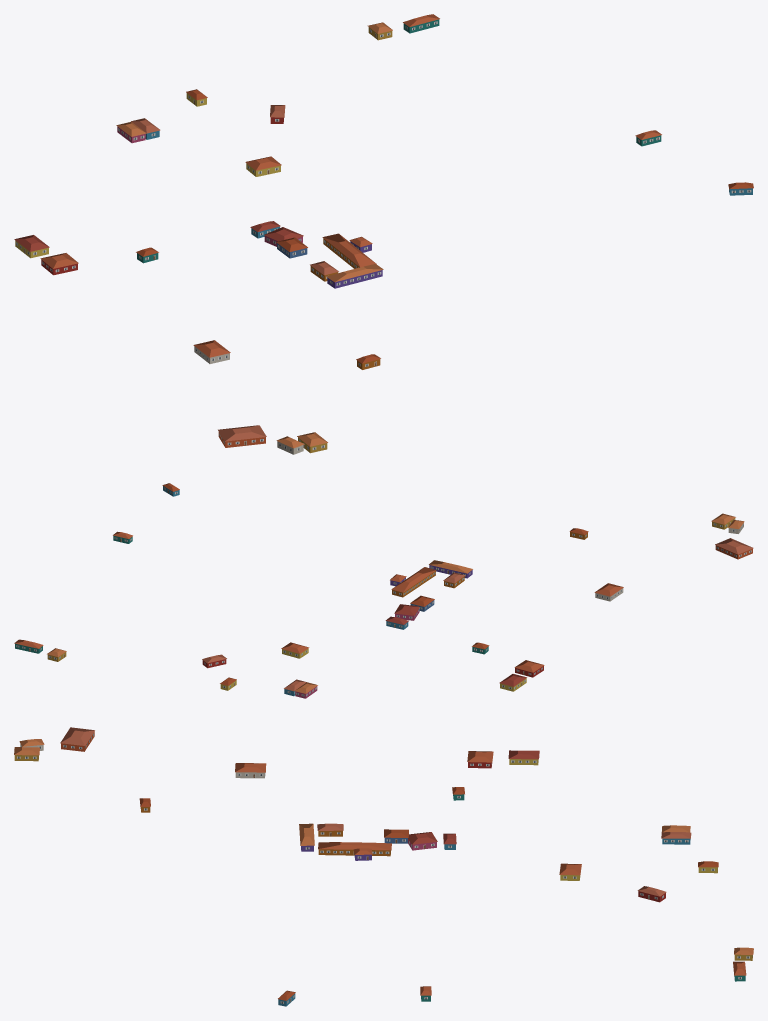
File: msb_oranjestad_m15_0.glb
3 views of the same model, one above another, from view 1: azimuth 30°, elevation 25°; view 2: azimuth 150°, elevation 25°; view 3: azimuth 270°, elevation 25° (orthographic). The views are drawn at different scales.
Visible parts, largest first — view 1: msb_oranjestad_m15_0_lod0; view 2: msb_oranjestad_m15_0_lod0; view 3: msb_oranjestad_m15_0_lod0.
Part boxes in pixels (x1,y1,x2,y2): msb_oranjestad_m15_0_lod0: [14, 14, 753, 454]; msb_oranjestad_m15_0_lod0: [14, 483, 753, 698]; msb_oranjestad_m15_0_lod0: [14, 727, 753, 1006].
Size of what is drawn, in the model's own units: 346 by 12.59 by 381.
Materials: 2 (1 with a texture image).
